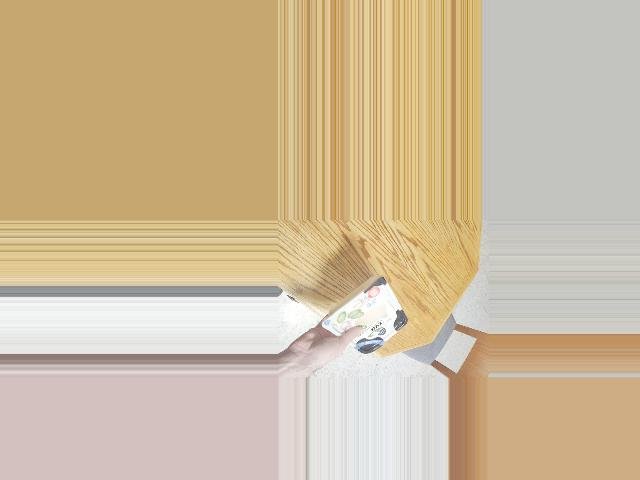cheese: (332, 281, 408, 345)
